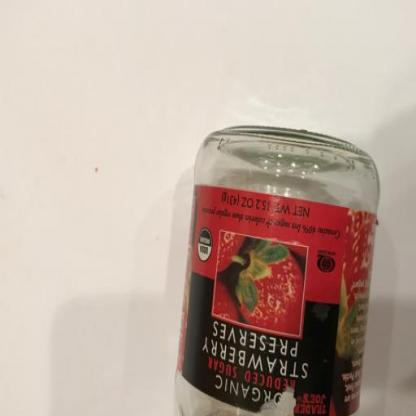trash: (172, 124, 380, 416)
